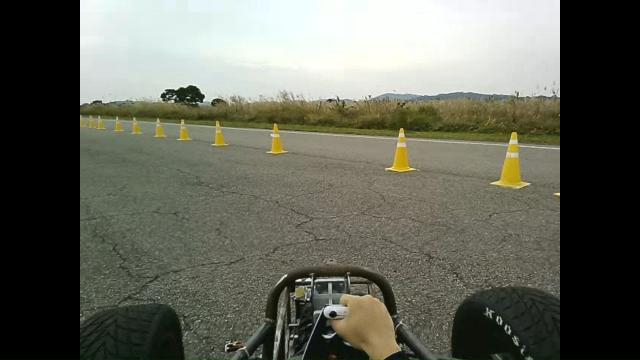yellow cone: (489, 131, 532, 189), (384, 127, 419, 173), (265, 122, 289, 154), (211, 120, 229, 146), (176, 118, 193, 141), (152, 116, 167, 138), (130, 116, 143, 134), (112, 115, 124, 132), (96, 115, 105, 130), (88, 115, 96, 128), (79, 114, 86, 127)
